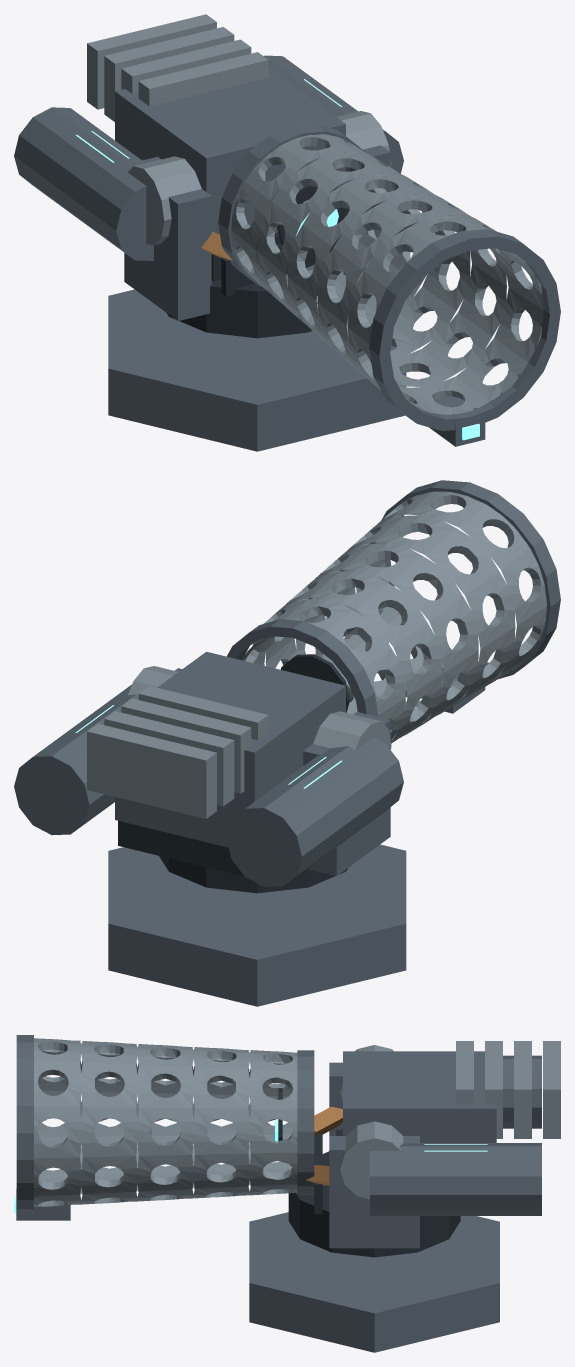
Rendered from plasma_t3_d0.glb.
3 views of the same model, one above another, from view 1: azimuth 30°, elevation 25°; view 2: azimuth 150°, elevation 25°; view 3: azimuth 270°, elevation 25° (orthographic). The views are drawn at different scales.
Parts seen in each view (by area): view 1: RECOIL_ARMOR_GEOMETRY, BASE_ARMOR_GEOMETRY, YAW_ARMOR_GEOMETRY, RECOIL_SIGNAL_GEOMETRY; view 2: RECOIL_ARMOR_GEOMETRY, BASE_ARMOR_GEOMETRY, YAW_ARMOR_GEOMETRY; view 3: RECOIL_ARMOR_GEOMETRY, BASE_ARMOR_GEOMETRY, YAW_ARMOR_GEOMETRY.
Part boxes in pixels (x1,y1,x2,y2): RECOIL_ARMOR_GEOMETRY: [14, 14, 560, 446]; BASE_ARMOR_GEOMETRY: [108, 289, 406, 451]; YAW_ARMOR_GEOMETRY: [124, 145, 390, 338]; RECOIL_SIGNAL_GEOMETRY: [75, 79, 479, 440]; RECOIL_ARMOR_GEOMETRY: [14, 480, 560, 886]; BASE_ARMOR_GEOMETRY: [108, 844, 406, 1006]; YAW_ARMOR_GEOMETRY: [159, 668, 390, 893]; RECOIL_ARMOR_GEOMETRY: [16, 1035, 560, 1220]; BASE_ARMOR_GEOMETRY: [249, 1212, 499, 1352]; YAW_ARMOR_GEOMETRY: [288, 1062, 460, 1257].
Size of the model in its own units: 1.6 by 1.52 by 3.02.
